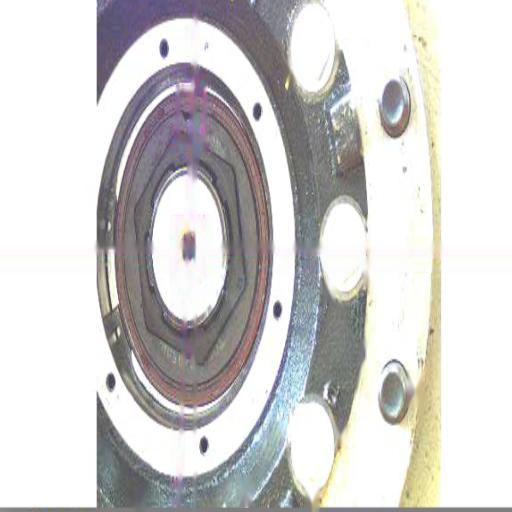center: (179, 226, 196, 266)
notch: (177, 103, 196, 131)
